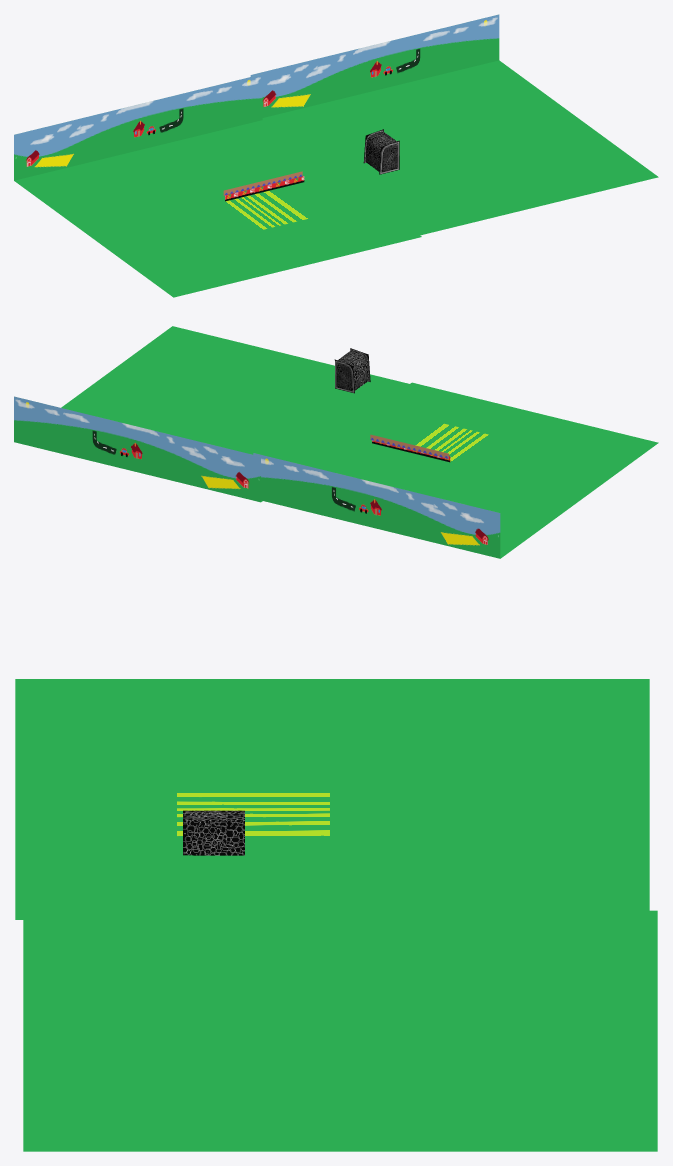
The model's file is taustatesti.glb.
The picture shows the model from 3 angles, top to bottom: view 1: azimuth 30°, elevation 25°; view 2: azimuth 150°, elevation 25°; view 3: azimuth 270°, elevation 25°; orthographic projection. The views are drawn at different scales.
Visible parts, largest first — view 1: Plane, Plane.003, Plane.001, Plane.004, Plane.002; view 2: Plane, Plane.003, Plane.001, Plane.004, Plane.002; view 3: Plane, Plane.003, Plane.001, Plane.004.
Boxes of the visible parts, <box> form: Plane: <box>250,14,658,237</box>; Plane.003: <box>14,74,421,297</box>; Plane.001: <box>222,190,309,230</box>; Plane.004: <box>363,129,399,174</box>; Plane.002: <box>223,171,304,201</box>; Plane: <box>14,326,419,502</box>; Plane.003: <box>253,382,658,558</box>; Plane.001: <box>413,423,491,462</box>; Plane.004: <box>334,348,370,393</box>; Plane.002: <box>370,434,450,462</box>; Plane: <box>23,910,657,1151</box>; Plane.003: <box>15,679,649,919</box>; Plane.001: <box>177,790,329,837</box>; Plane.004: <box>183,810,244,855</box>.
Bounding box in the file's own units: 17.63 × 2.1 × 10.13.
2 materials, 2 textured.
